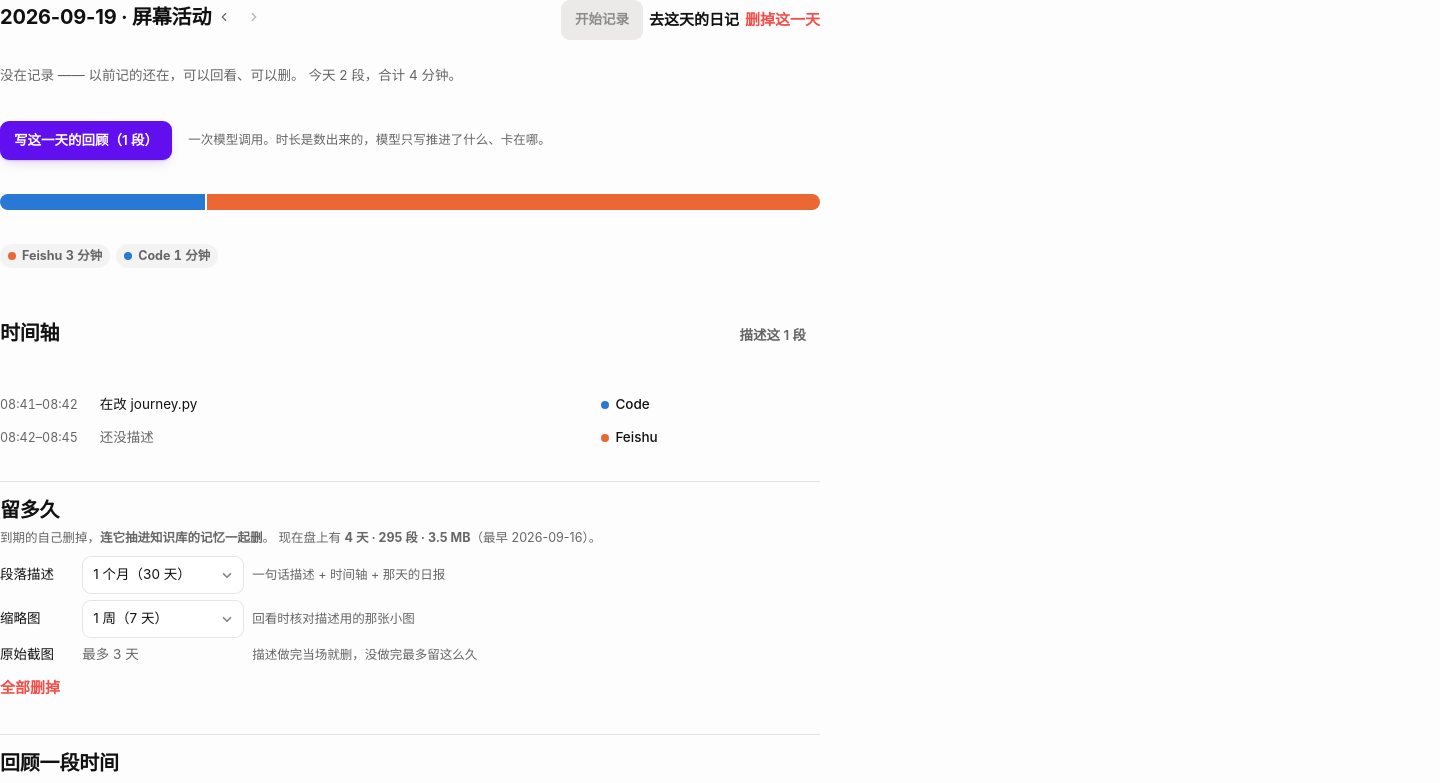
Test case: #5 删一段 / 删掉这一天：页面里的确认 › 删掉这一天：「先不删」就什么都不发生
What coordinates should you click on to do the following:
click the button "删掉这一天"
I would click on:
 (782, 20)
Its box is [745,8,820,32].
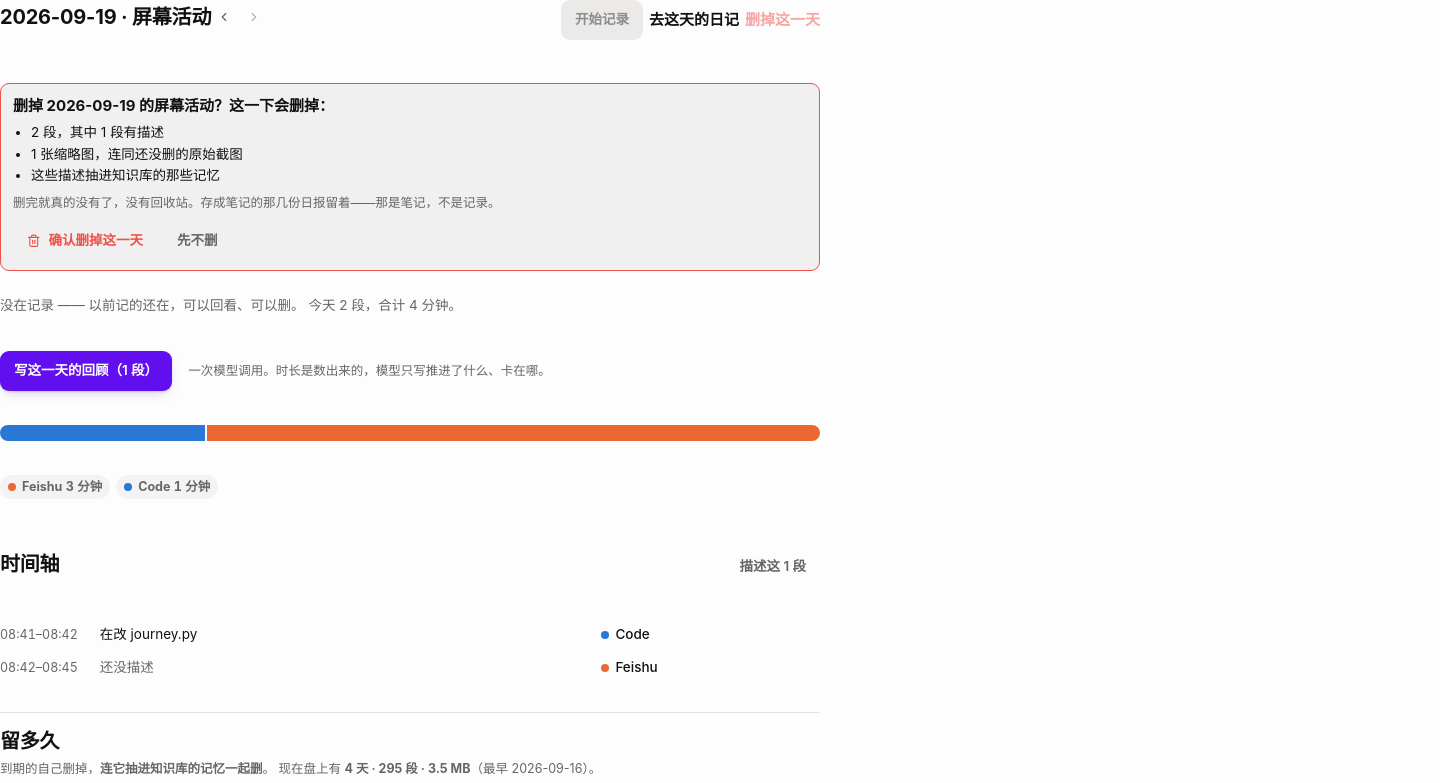
What coordinates should you click on to do the following:
click the button "先不删"
I would click on:
 (197, 241)
Its box is [163,221,232,260].
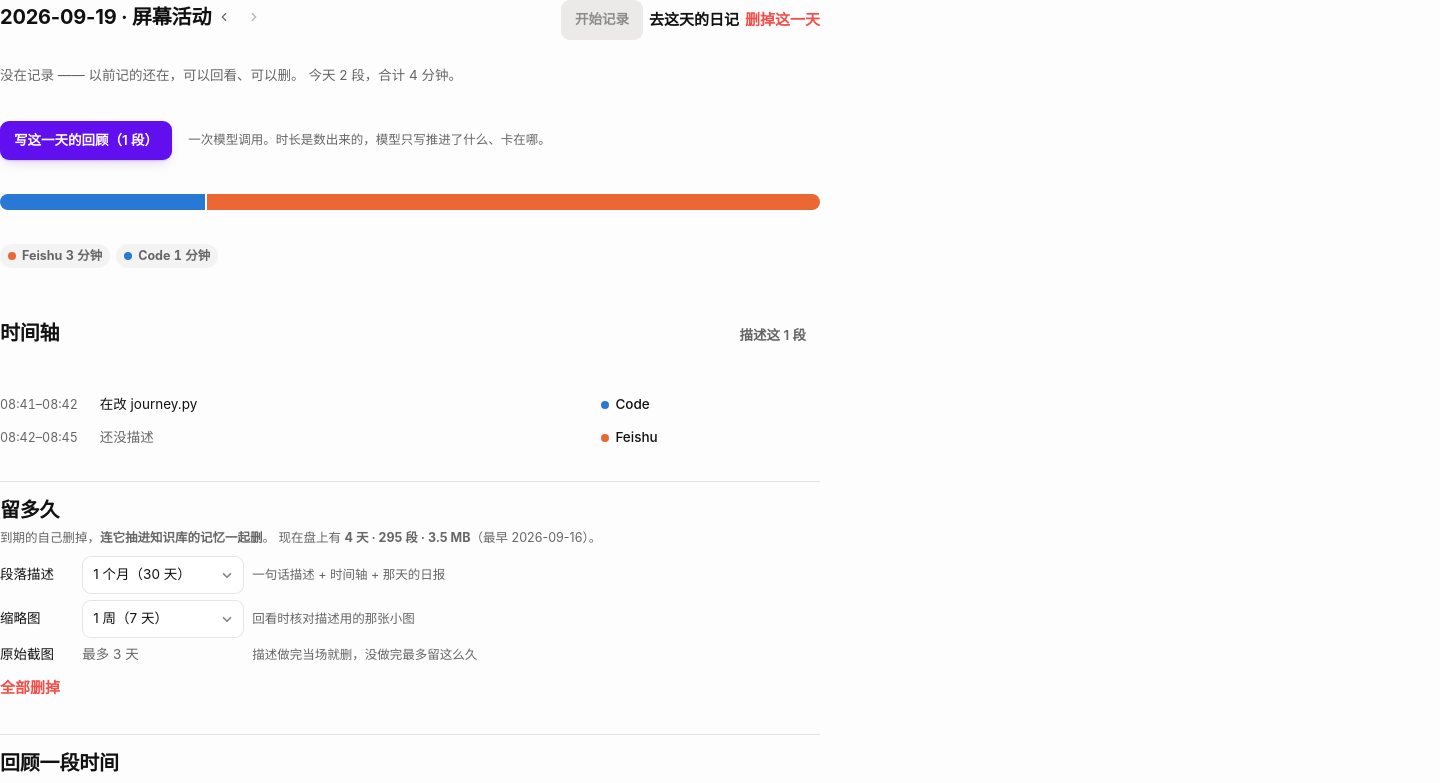
Expected: the text "确认删掉这一天" is gone
